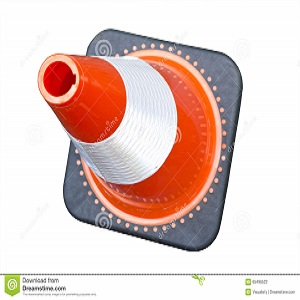traffic cone: (37, 27, 243, 251)
